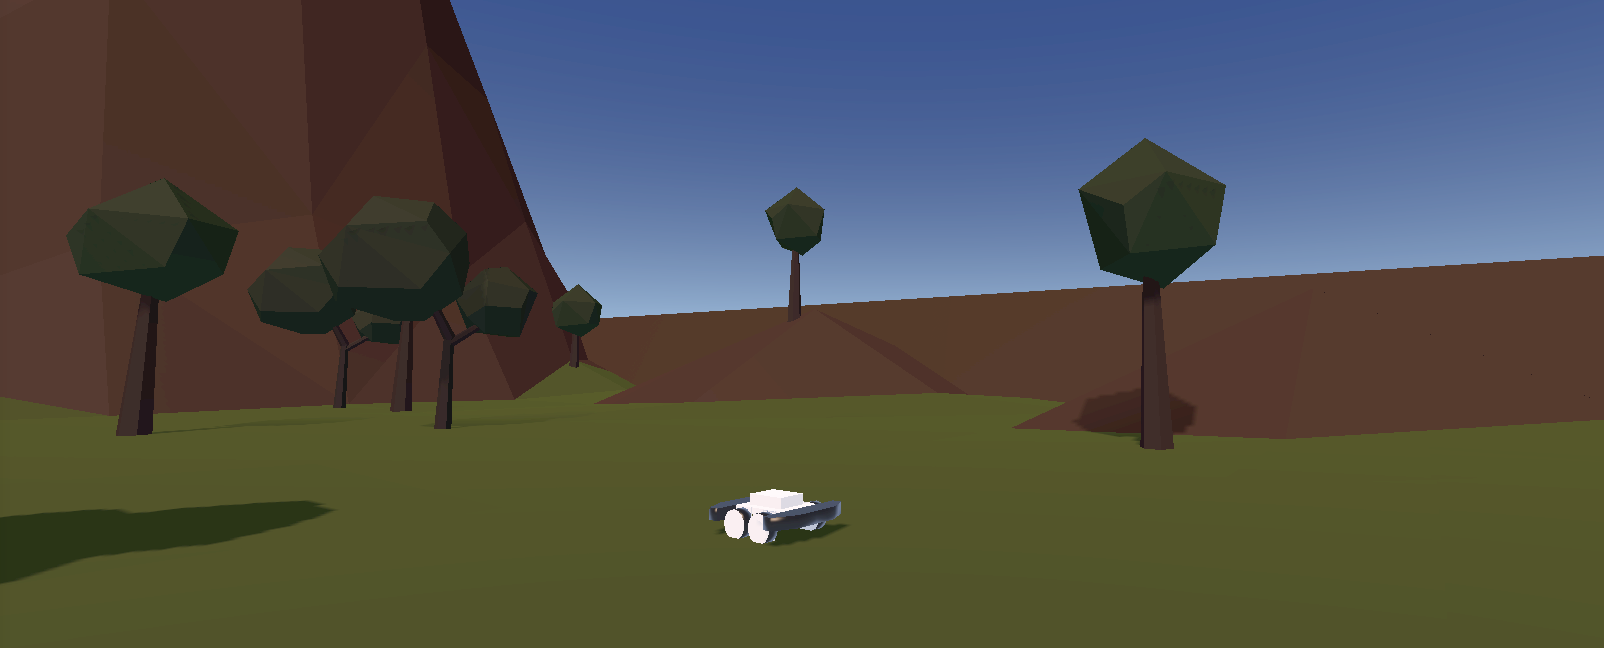tree: (323, 192, 535, 435), (1078, 138, 1228, 455), (66, 180, 240, 439), (248, 237, 399, 419), (762, 186, 828, 313), (546, 283, 611, 369)
